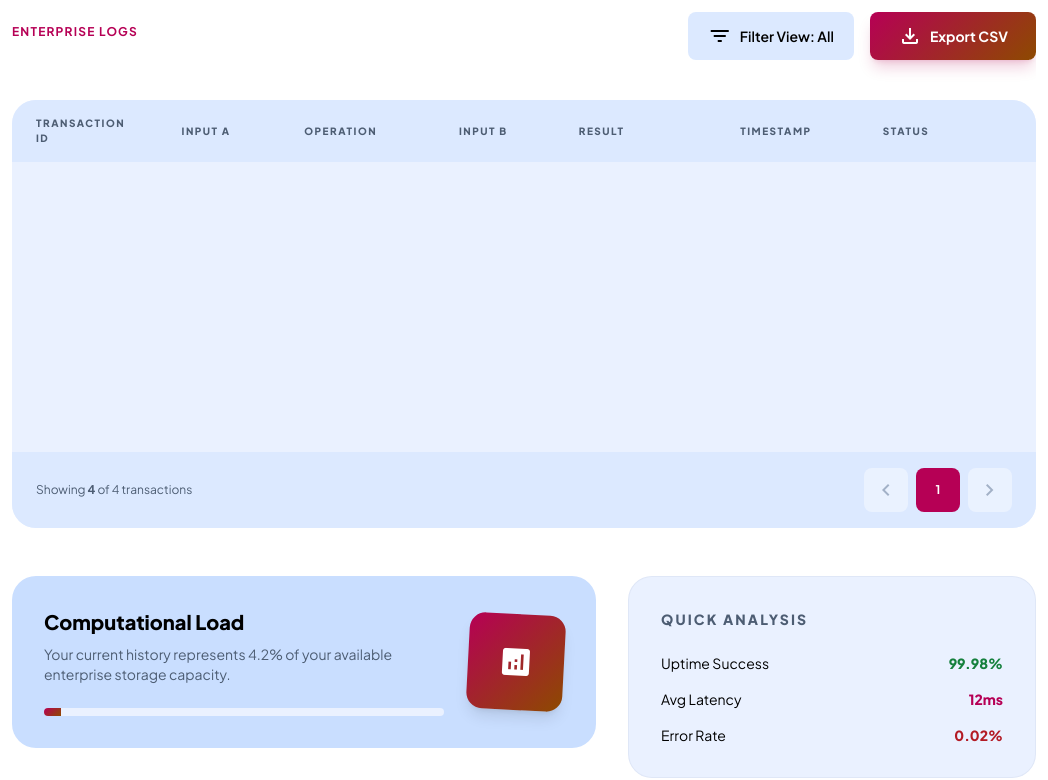
Test: History page › cycles filter modes
Click the button "Filter View: All". click: point(771, 36)
box: 688,12 -> 854,60
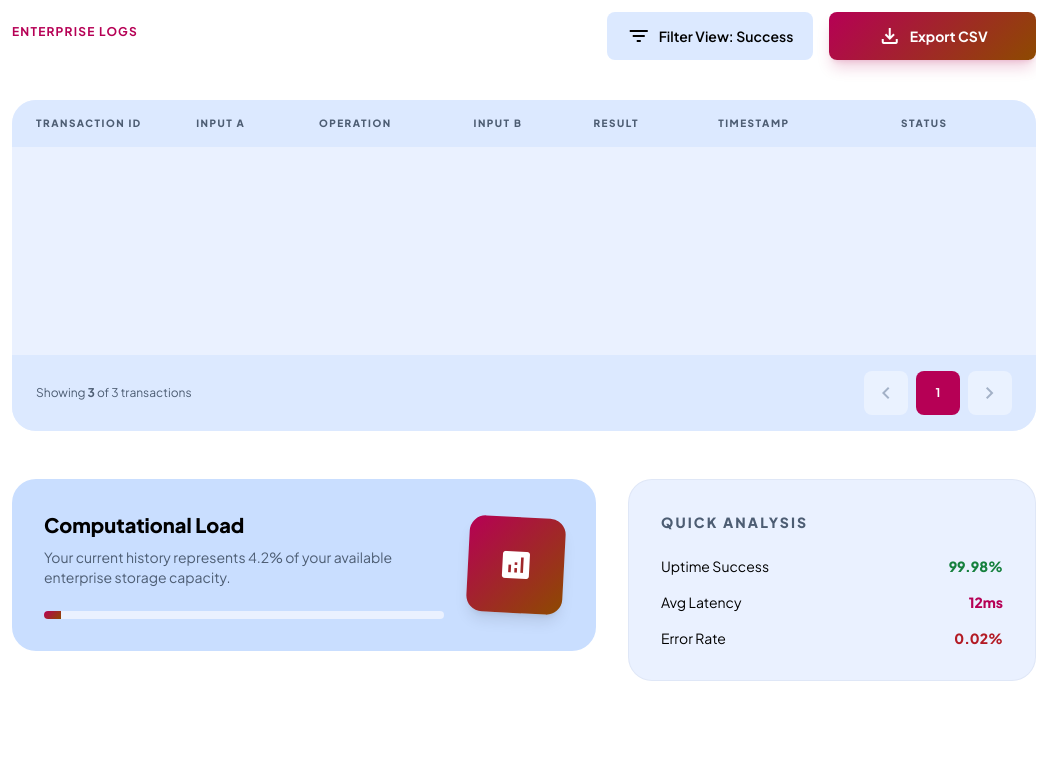
Now the button "Filter View: Success" is shown
Click the button "Filter View: Success". click: point(710, 36)
box: 607,12 -> 813,60
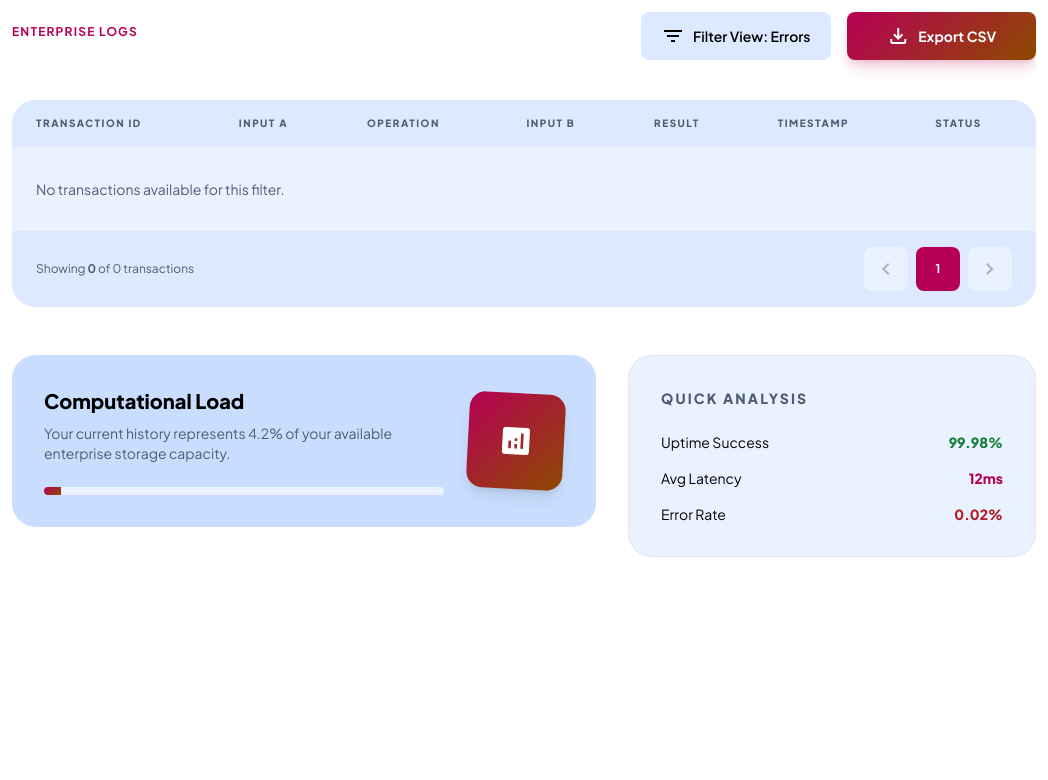
Now the button "Filter View: Errors" is shown, box 641,12 -> 831,60
